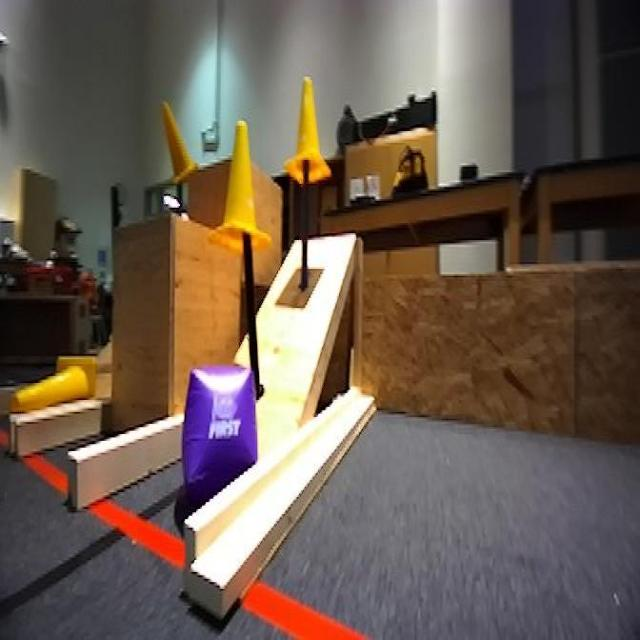frc_cone: (216, 126, 272, 248), (11, 352, 98, 422), (286, 76, 330, 186), (164, 99, 195, 189)
frc_cube: (176, 359, 258, 509)
